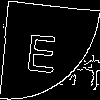E: (24, 25, 60, 73)
